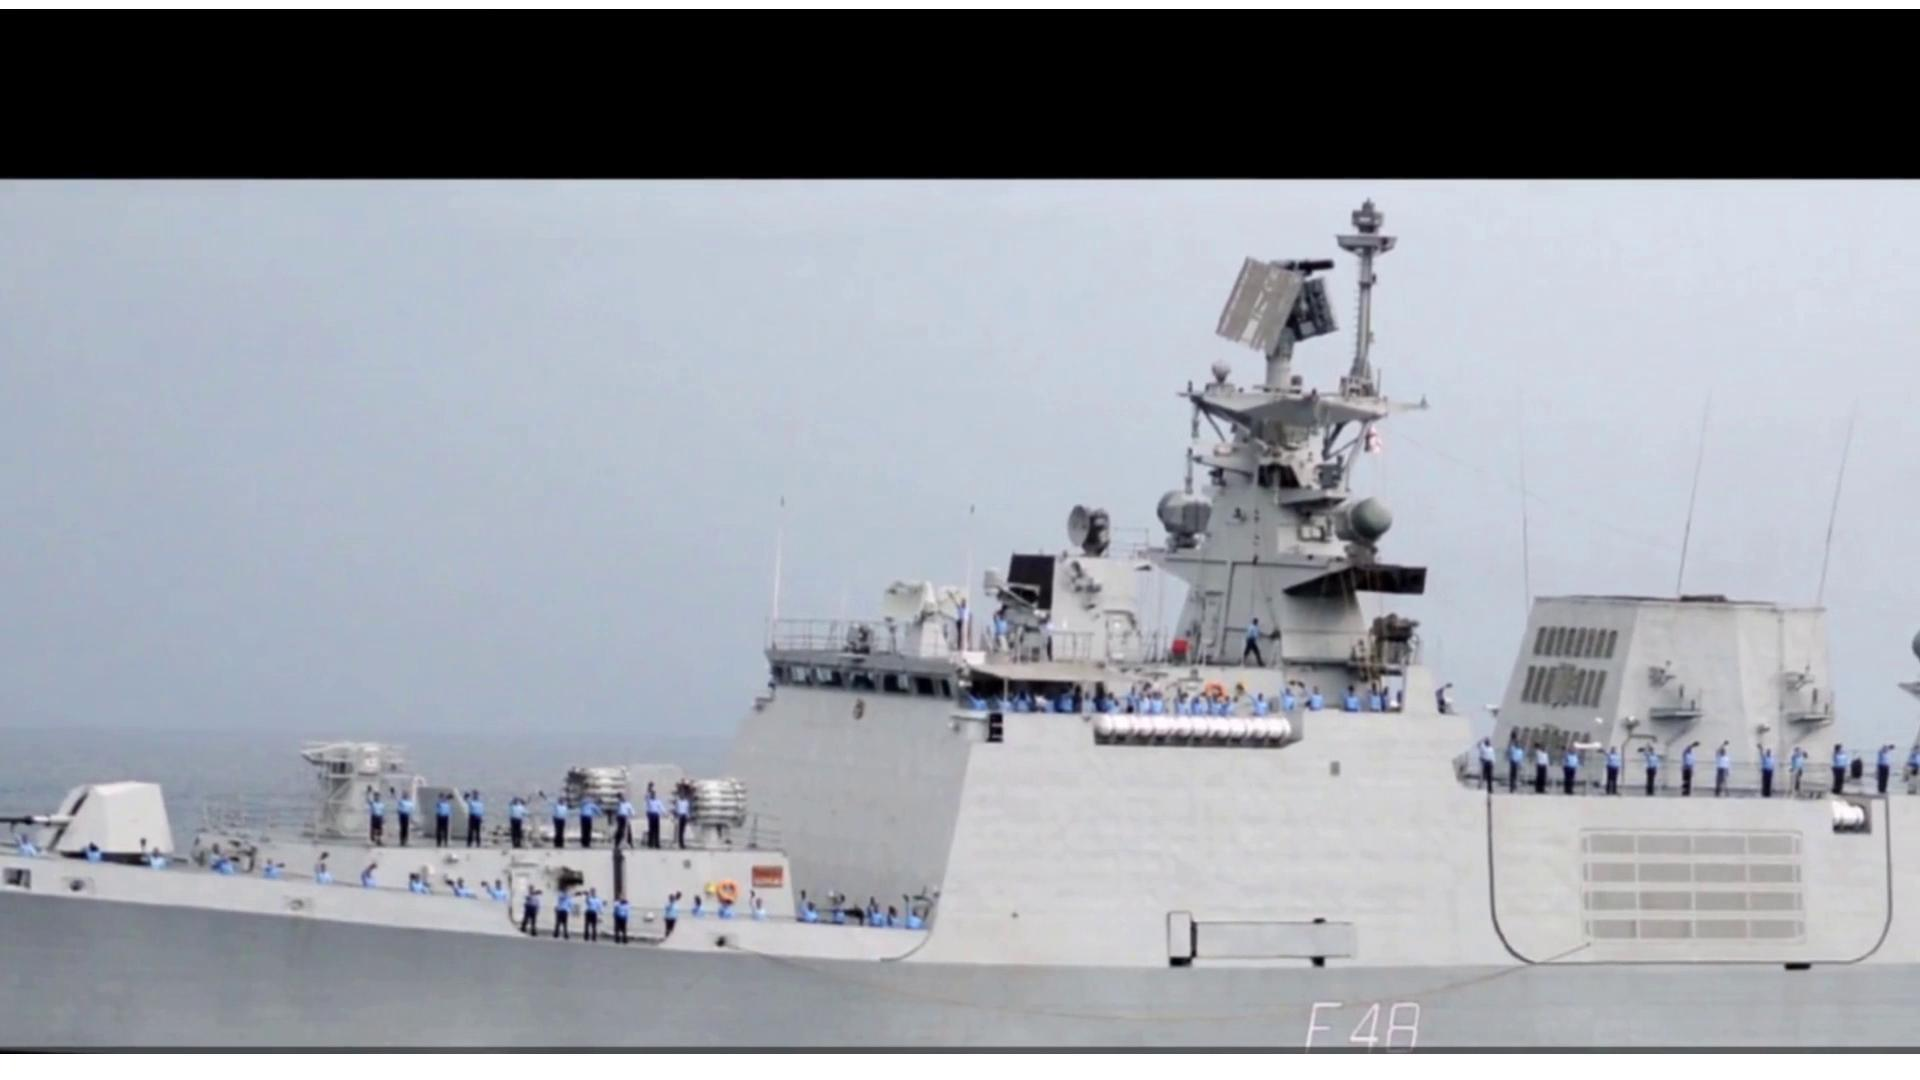OCR: (1280, 989, 1439, 1051)
